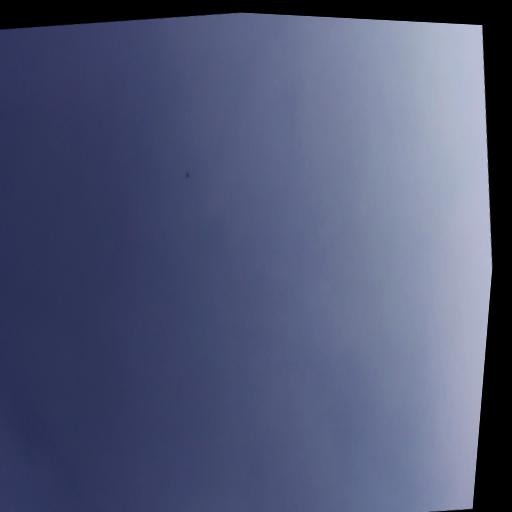drones: (185, 170, 191, 180)
